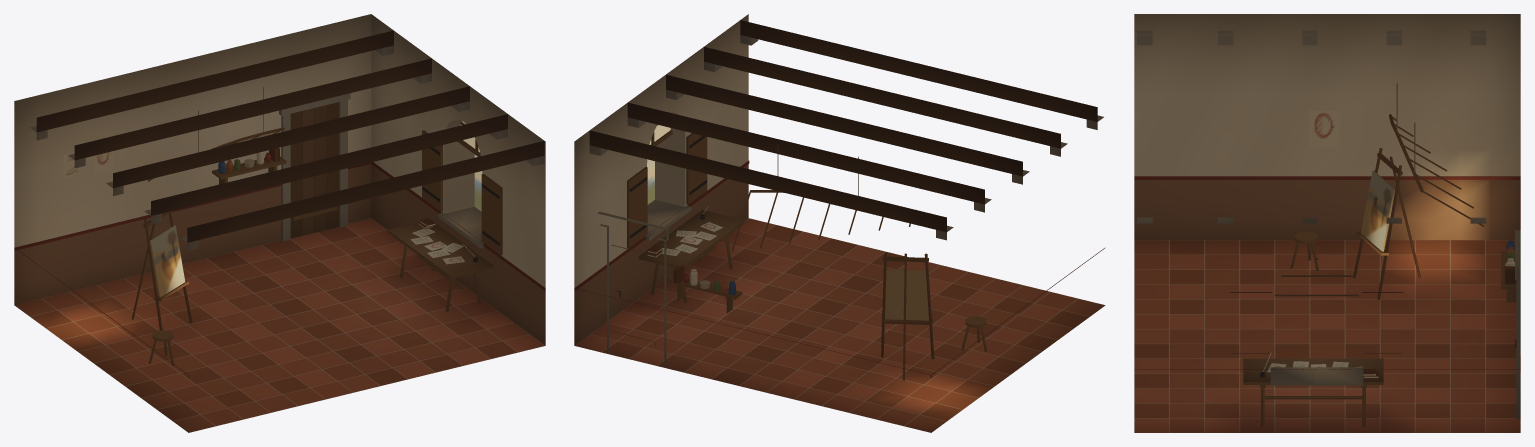
The model's file is leonardo.room.glb.
The picture shows the model from 3 angles, left to right: view 1: azimuth 30°, elevation 25°; view 2: azimuth 150°, elevation 25°; view 3: azimuth 270°, elevation 25°; orthographic projection. The views are drawn at different scales.
Parts seen in each view (by area): view 1: room; view 2: room; view 3: room.
Boxes of the visible parts, left/top/right/bottom form: room: left=14, top=14, right=545, bottom=432; room: left=574, top=14, right=1105, bottom=432; room: left=1134, top=14, right=1520, bottom=432.
Size of the model in its own units: 7.05 by 3.55 by 5.5.
